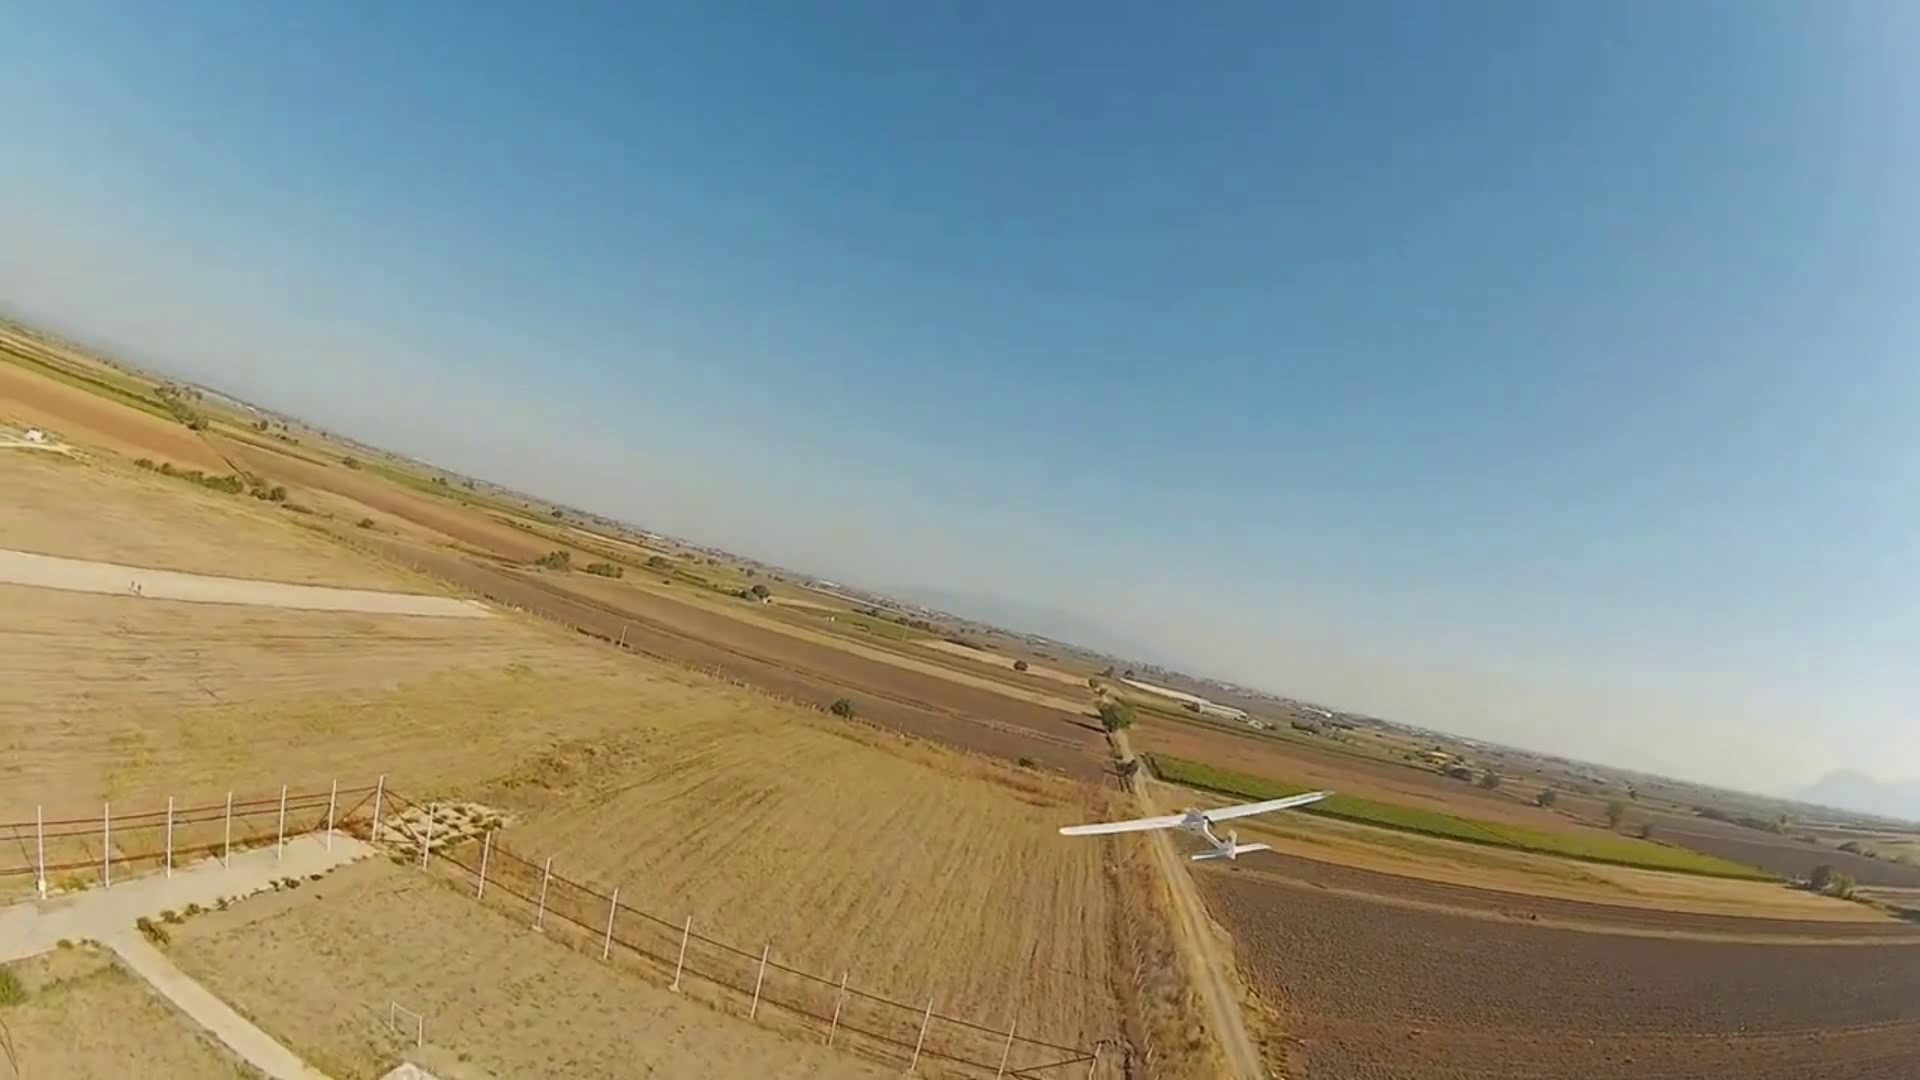airplane: (1056, 787, 1332, 862)
